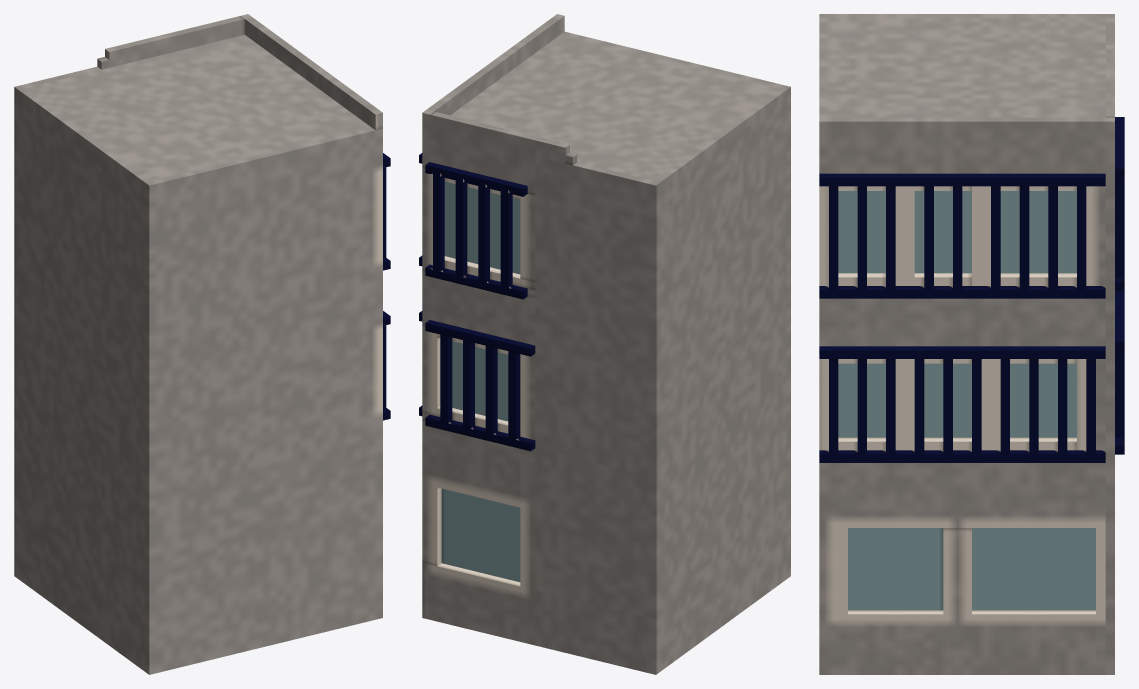
The model's file is sierociniec_scia_p_bok02.dae.
The picture shows the model from 3 angles, left to right: view 1: azimuth 30°, elevation 25°; view 2: azimuth 150°, elevation 25°; view 3: azimuth 270°, elevation 25°; orthographic projection. The views are drawn at different scales.
Parts seen in each view (by area): view 1: Content; view 2: Content; view 3: Content.
Boxes of the visible parts, x1=… form: Content: x1=14, y1=14, x2=390, y2=674; Content: x1=419, y1=14, x2=790, y2=674; Content: x1=819, y1=14, x2=1124, y2=674.
Size of the model in its own units: 32 by 64 by 32.
Materials: 1 (1 with a texture image).
